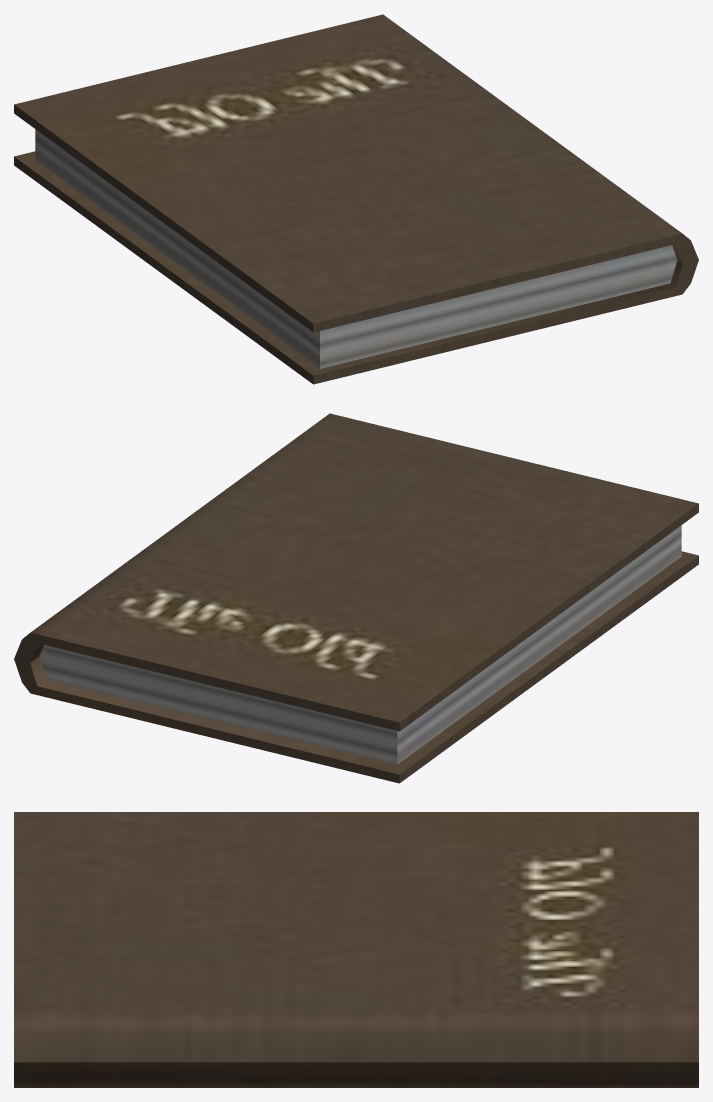
File: objects_book_1.glb
The picture shows the model from 3 angles, top to bottom: view 1: azimuth 30°, elevation 25°; view 2: azimuth 150°, elevation 25°; view 3: azimuth 270°, elevation 25°; orthographic projection. The views are drawn at different scales.
Visible parts, largest first — view 1: book_1; view 2: book_1; view 3: book_1.
Part boxes in pixels (x1,y1,x2,y2): book_1: (14, 14, 698, 384); book_1: (14, 413, 698, 783); book_1: (14, 812, 698, 1087).
Size of the model in its own units: 1.02 by 0.1537 by 1.37.
Materials: 1 (1 with a texture image).
